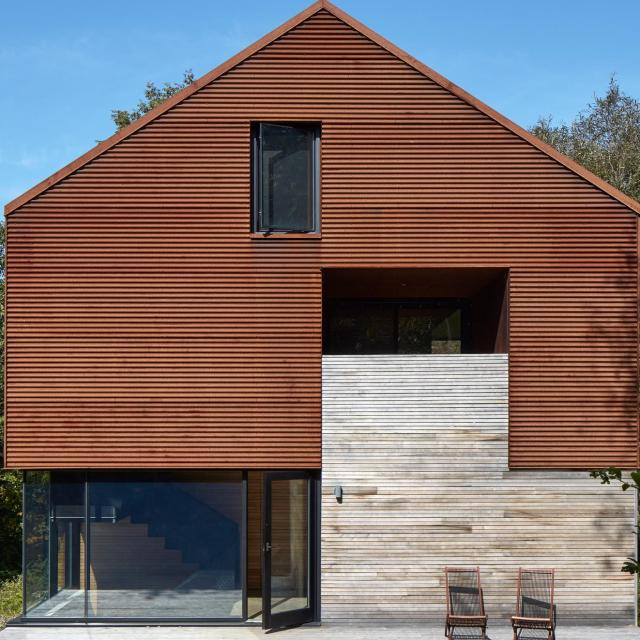door: (244, 465, 324, 632)
plant: (531, 73, 640, 200)
wall: (3, 0, 640, 628)
windows: (18, 466, 322, 630), (322, 299, 464, 354), (255, 127, 321, 228)
